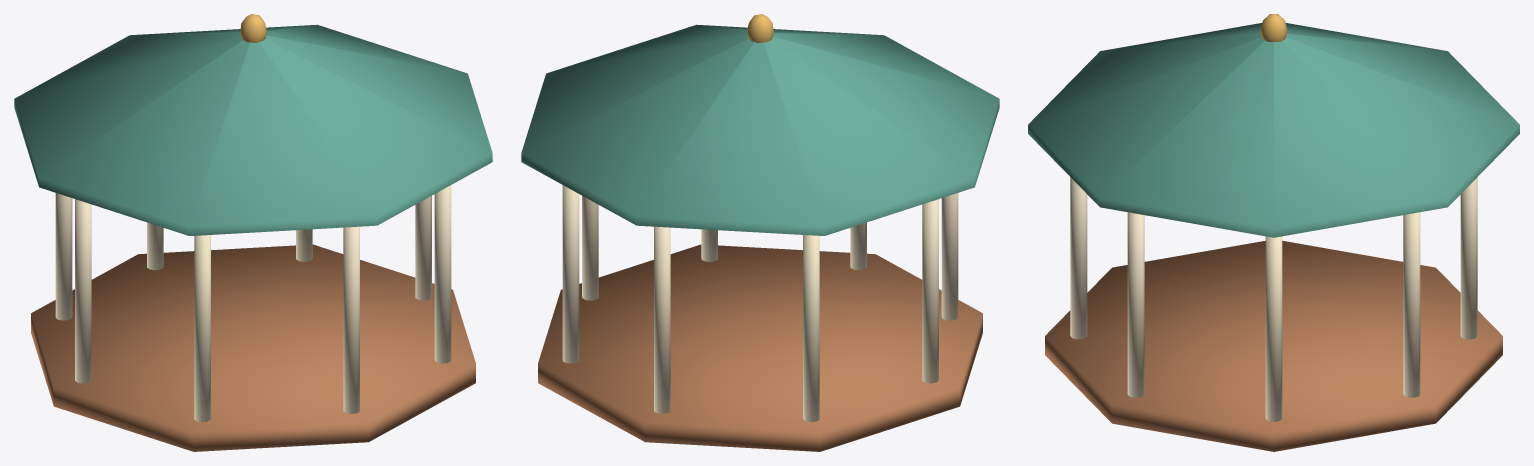
File: Park_gazebo.fbx
The picture shows the model from 3 angles, left to right: view 1: azimuth 30°, elevation 25°; view 2: azimuth 150°, elevation 25°; view 3: azimuth 270°, elevation 25°; orthographic projection.
Visible parts, largest first — view 1: Town_Park_gazebo Gazebo roof.001, Town_Park_gazebo Gazebo deck.001, Town_Park_gazebo Gazebo post.014, Town_Park_gazebo Gazebo post.013, Town_Park_gazebo Gazebo post.015, Town_Park_gazebo Gazebo post.012, Town_Park_gazebo Gazebo post.011, Town_Park_gazebo Gazebo post.008, Town_Park_gazebo Gazebo post.010, Town_Park_gazebo Roof finial.001, Town_Park_gazebo Gazebo post.009; view 2: Town_Park_gazebo Gazebo roof.001, Town_Park_gazebo Gazebo deck.001, Town_Park_gazebo Gazebo post.010, Town_Park_gazebo Gazebo post.011, Town_Park_gazebo Gazebo post.009, Town_Park_gazebo Gazebo post.012, Town_Park_gazebo Gazebo post.013, Town_Park_gazebo Gazebo post.008, Town_Park_gazebo Gazebo post.014, Town_Park_gazebo Roof finial.001, Town_Park_gazebo Gazebo post.015; view 3: Town_Park_gazebo Gazebo roof.001, Town_Park_gazebo Gazebo deck.001, Town_Park_gazebo Gazebo post.008, Town_Park_gazebo Gazebo post.009, Town_Park_gazebo Gazebo post.015, Town_Park_gazebo Gazebo post.010, Town_Park_gazebo Gazebo post.014, Town_Park_gazebo Roof finial.001.
Boxes of the visible parts, x1,y1,x2,y2 form: Town_Park_gazebo Gazebo roof.001: [14, 24, 492, 235]; Town_Park_gazebo Gazebo deck.001: [31, 244, 475, 451]; Town_Park_gazebo Gazebo post.014: [343, 226, 359, 413]; Town_Park_gazebo Gazebo post.013: [194, 235, 210, 422]; Town_Park_gazebo Gazebo post.015: [434, 185, 451, 363]; Town_Park_gazebo Gazebo post.012: [75, 199, 91, 383]; Town_Park_gazebo Gazebo post.011: [55, 193, 72, 320]; Town_Park_gazebo Gazebo post.008: [415, 196, 431, 300]; Town_Park_gazebo Gazebo post.010: [147, 222, 163, 270]; Town_Park_gazebo Roof finial.001: [240, 14, 266, 42]; Town_Park_gazebo Gazebo post.009: [296, 229, 312, 261]; Town_Park_gazebo Gazebo roof.001: [521, 24, 999, 235]; Town_Park_gazebo Gazebo deck.001: [538, 244, 982, 451]; Town_Park_gazebo Gazebo post.010: [654, 226, 670, 413]; Town_Park_gazebo Gazebo post.011: [803, 235, 819, 422]; Town_Park_gazebo Gazebo post.009: [562, 185, 579, 363]; Town_Park_gazebo Gazebo post.012: [922, 199, 938, 383]; Town_Park_gazebo Gazebo post.013: [941, 193, 958, 320]; Town_Park_gazebo Gazebo post.008: [582, 196, 598, 300]; Town_Park_gazebo Gazebo post.014: [850, 222, 866, 270]; Town_Park_gazebo Roof finial.001: [747, 14, 773, 42]; Town_Park_gazebo Gazebo post.015: [701, 229, 717, 261]; Town_Park_gazebo Gazebo roof.001: [1028, 23, 1519, 237]; Town_Park_gazebo Gazebo deck.001: [1045, 240, 1502, 451]; Town_Park_gazebo Gazebo post.008: [1265, 236, 1282, 421]; Town_Park_gazebo Gazebo post.009: [1403, 212, 1420, 397]; Town_Park_gazebo Gazebo post.015: [1127, 212, 1144, 397]; Town_Park_gazebo Gazebo post.010: [1460, 177, 1477, 339]; Town_Park_gazebo Gazebo post.014: [1070, 177, 1087, 339]; Town_Park_gazebo Roof finial.001: [1260, 14, 1287, 41].
Bounding box in the file's own units: 580 × 444 × 580.
